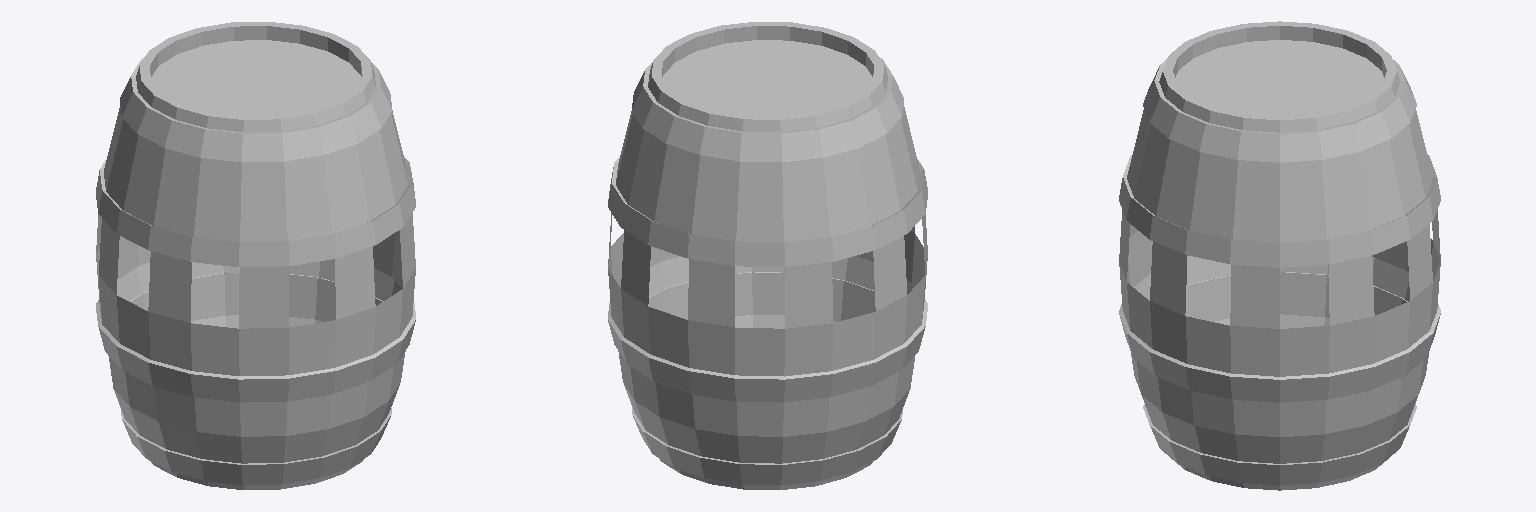
File: barrel3_test.obj
The picture shows the model from 3 angles: view 1: azimuth 30°, elevation 25°; view 2: azimuth 150°, elevation 25°; view 3: azimuth 270°, elevation 25°; orthographic projection.
Size of the model in its own units: 1.71 by 2.17 by 1.71.